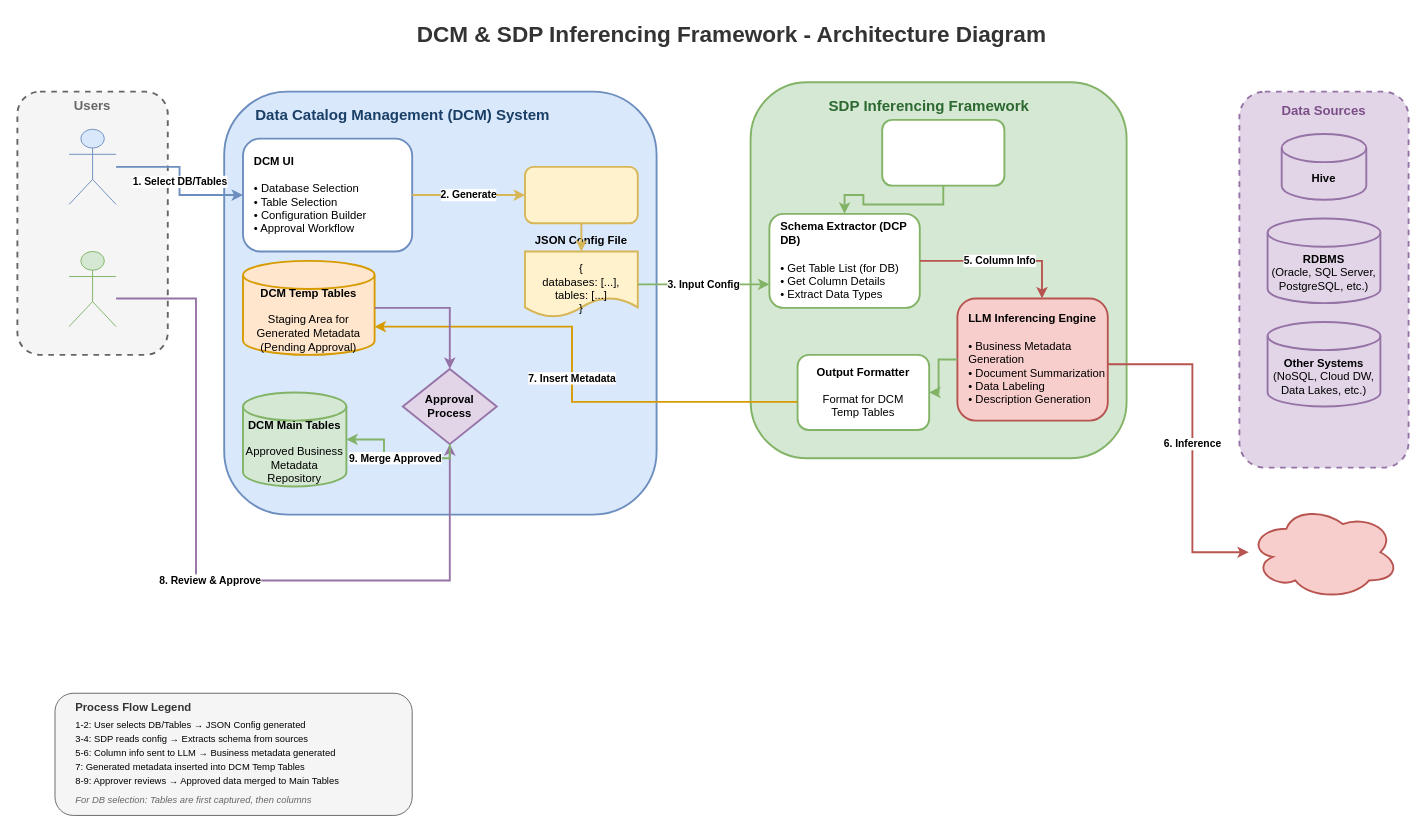
Some shapes in this 1425 by 832 pixel diagram are drawn without their labels. Each missing label, with the centre of its shape:
Approver: pixel 92 289
Config Reader Parse JSON Config: pixel 943 152
Data Steward: pixel 92 166
JSON Config Generator: pixel 581 194
LLM Service (GPT/Claude/ Custom Model): pixel 1323 552
